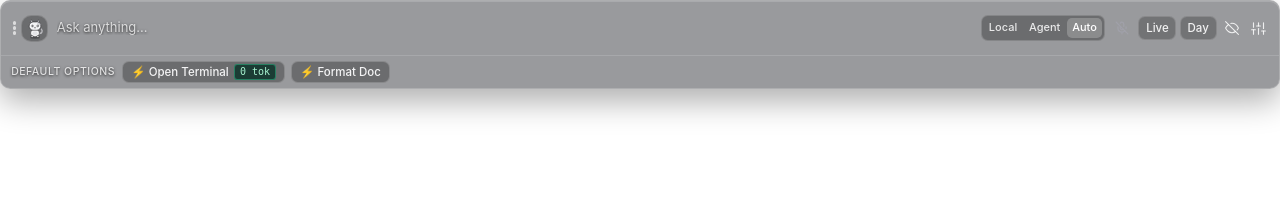
FloatingBar › submits query, renders plain-text step response safely (no HTML), advances steps, and clears on Esc
Step 1. Type "Remove background" into the field with test id "bar-query-input" → (515, 28), box left=52, top=18, right=978, bottom=37
Then press Enter
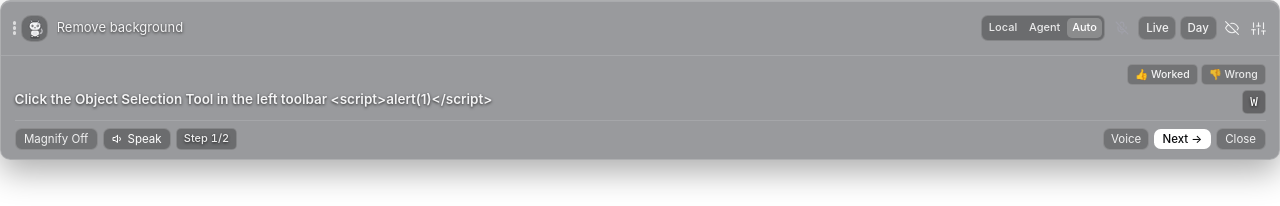
Now the element with test id "response-block" is shown, box left=1, top=55, right=1279, bottom=159
Now the text with test id "step-counter" reads "Step 1/2", box left=184, top=131, right=229, bottom=145
Now the text with test id "step-shortcut" reads "W", box left=1250, top=94, right=1258, bottom=109
# Toggle Magnify
Step 2. Click the button with test id "magnify-toggle-btn" → (56, 139), box left=14, top=128, right=98, bottom=150
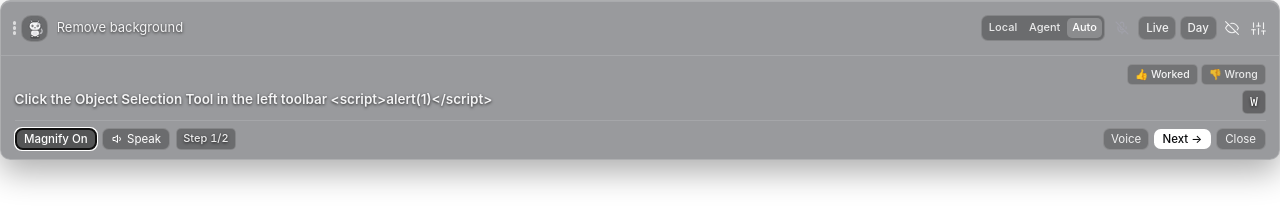
Step 3. Click the button with test id "next-step-btn" → (1182, 139), box left=1154, top=129, right=1211, bottom=149
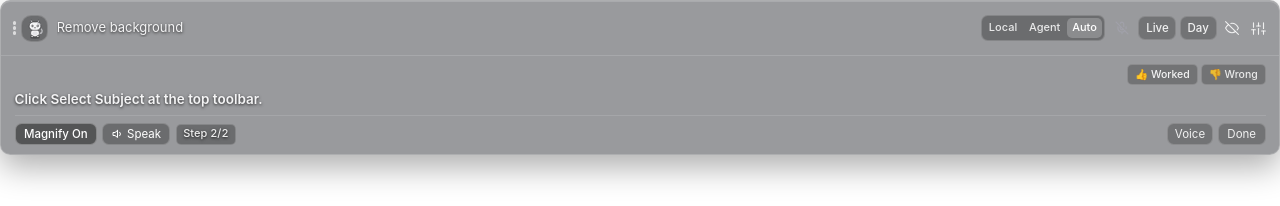
Now the text with test id "step-counter" reads "Step 2/2", box left=183, top=126, right=229, bottom=140
Now the text with test id "instruction-line" reads "Click Select Subject at the top toolbar.", box left=14, top=91, right=263, bottom=107
# Pressing Escape clears overlay and collapses response block
Step 4. Press Escape
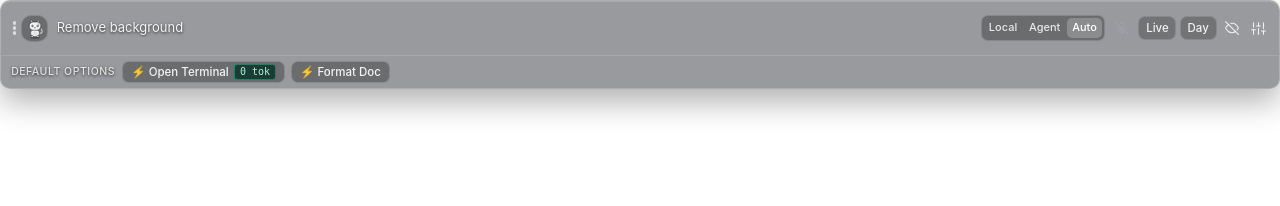
Now the element with test id "response-block" is gone
